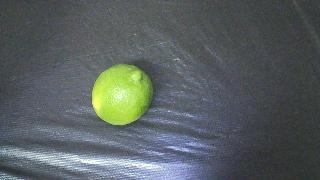LOCAL: (92, 64, 153, 125)
